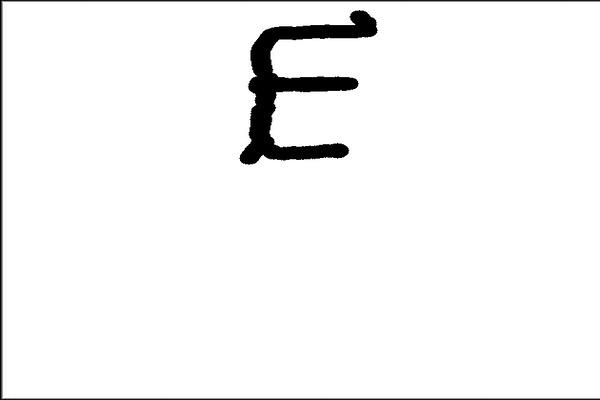E: (234, 5, 382, 171)
